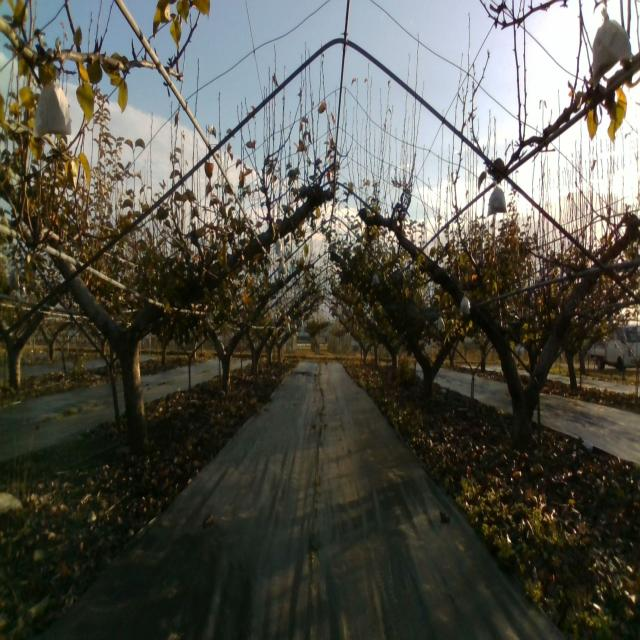pearbags: (593, 6, 633, 88), (32, 80, 72, 138), (487, 180, 507, 218), (461, 292, 471, 315)
